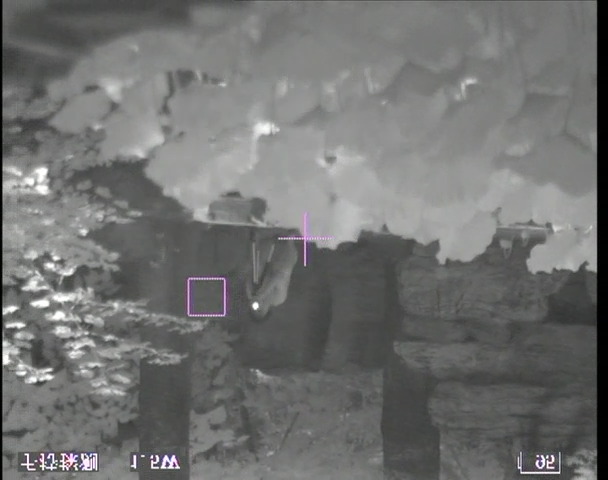my: (250, 301, 260, 312)
